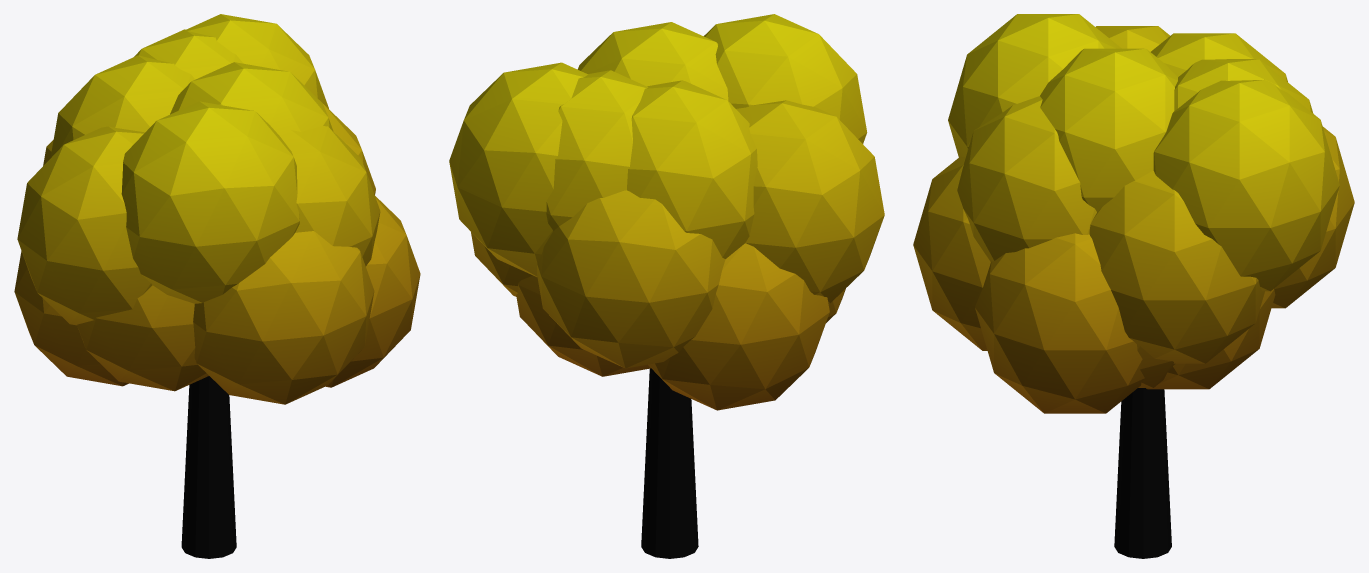
File: tree_broadleaf.glb
The picture shows the model from 3 angles, left to right: view 1: azimuth 30°, elevation 25°; view 2: azimuth 150°, elevation 25°; view 3: azimuth 270°, elevation 25°; orthographic projection. The views are drawn at different scales.
Parts seen in each view (by area): view 1: leaves_crown.012, leaves_crown.017, leaves_crown.015, leaves_crown.007, tree_trunk, leaves_crown.009, leaves_crown.005, leaves_crown.014, leaves_crown.001, leaves_crown.016, leaves_crown.010, leaves_crown.008 (+1 smaller); view 2: leaves_crown.013, leaves_crown.015, leaves_crown.016, leaves_crown.010, leaves_crown.005, leaves_crown.012, leaves_crown.008, tree_trunk, leaves_crown.001, leaves_crown.003, leaves_crown.011; view 3: leaves_crown.016, leaves_crown.014, leaves_crown.011, leaves_crown.001, leaves_crown.009, leaves_crown.012, tree_trunk, leaves_crown.017, leaves_crown.013, leaves_crown.003, leaves_crown.005, leaves_crown.008 (+2 smaller).
Part boxes in pixels (x1,y1,x2,y2): leaves_crown.012: [121, 101, 299, 303]; leaves_crown.017: [193, 231, 374, 404]; leaves_crown.015: [17, 126, 152, 325]; leaves_crown.007: [77, 285, 208, 391]; tree_trunk: [181, 376, 236, 558]; leaves_crown.009: [280, 126, 380, 266]; leaves_crown.005: [50, 55, 194, 158]; leaves_crown.014: [326, 196, 420, 387]; leaves_crown.001: [170, 62, 333, 135]; leaves_crown.016: [186, 14, 328, 108]; leaves_crown.010: [14, 251, 128, 386]; leaves_crown.008: [134, 29, 243, 79]; leaves_crown.013: [537, 190, 725, 368]; leaves_crown.015: [736, 100, 884, 303]; leaves_crown.016: [449, 62, 587, 276]; leaves_crown.010: [648, 243, 829, 410]; leaves_crown.005: [627, 80, 757, 258]; leaves_crown.012: [704, 14, 867, 143]; leaves_crown.008: [546, 70, 648, 230]; tree_trunk: [641, 368, 698, 558]; leaves_crown.001: [577, 22, 728, 100]; leaves_crown.003: [516, 275, 650, 376]; leaves_crown.011: [471, 232, 532, 296]; leaves_crown.016: [1153, 79, 1339, 291]; leaves_crown.014: [975, 233, 1144, 413]; leaves_crown.011: [1089, 170, 1264, 363]; leaves_crown.001: [1040, 48, 1177, 211]; leaves_crown.009: [957, 96, 1096, 261]; leaves_crown.012: [948, 14, 1121, 157]; tree_trunk: [1114, 388, 1171, 558]; leaves_crown.017: [913, 156, 990, 350]; leaves_crown.013: [1271, 126, 1354, 308]; leaves_crown.003: [1146, 289, 1275, 389]; leaves_crown.005: [1151, 33, 1287, 81]; leaves_crown.008: [1174, 59, 1313, 113].
Bounding box in the file's own units: 3.38 × 4.45 × 3.52.
